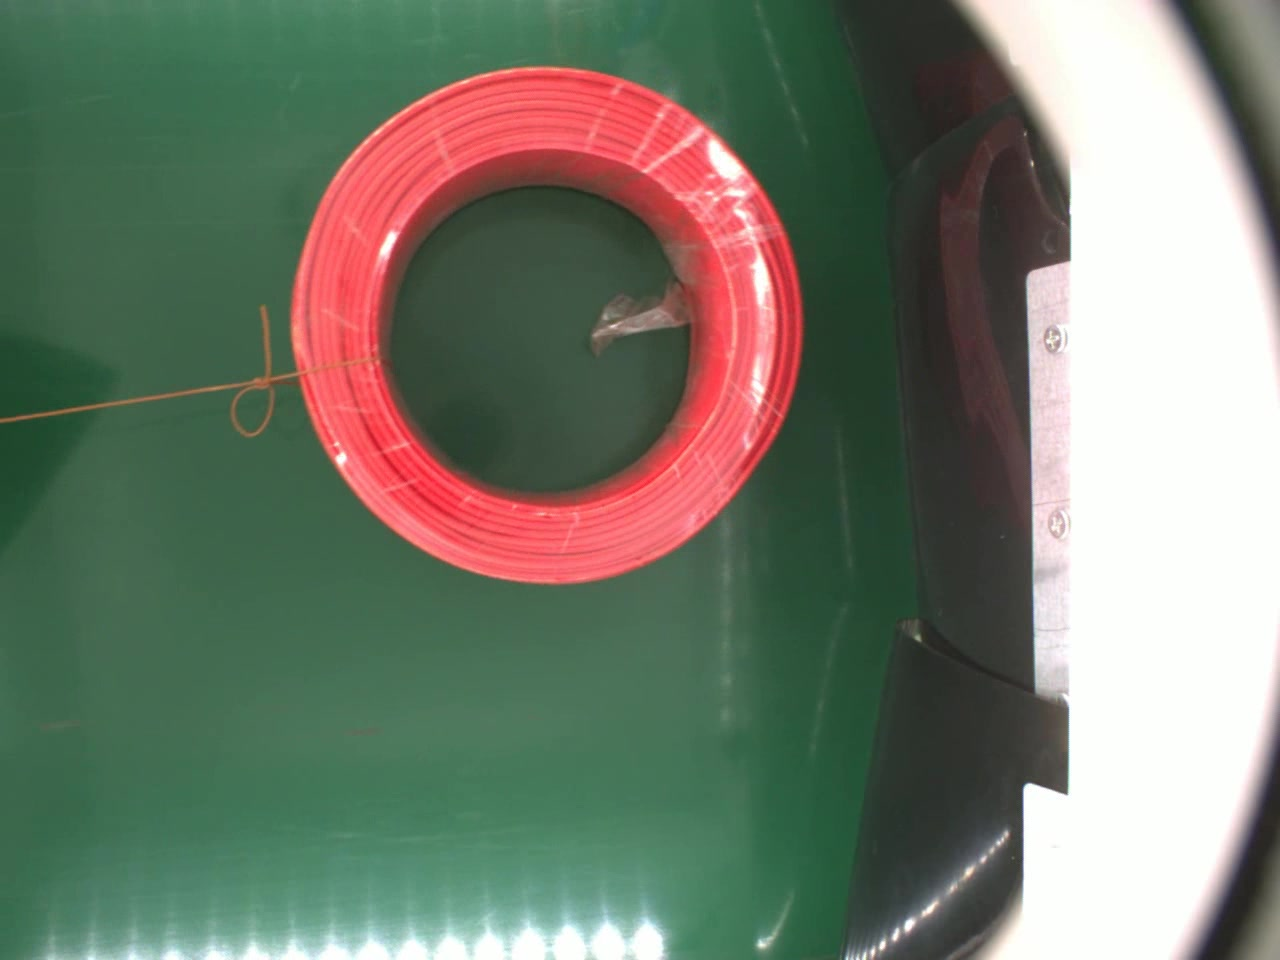red: (288, 57, 822, 586)
